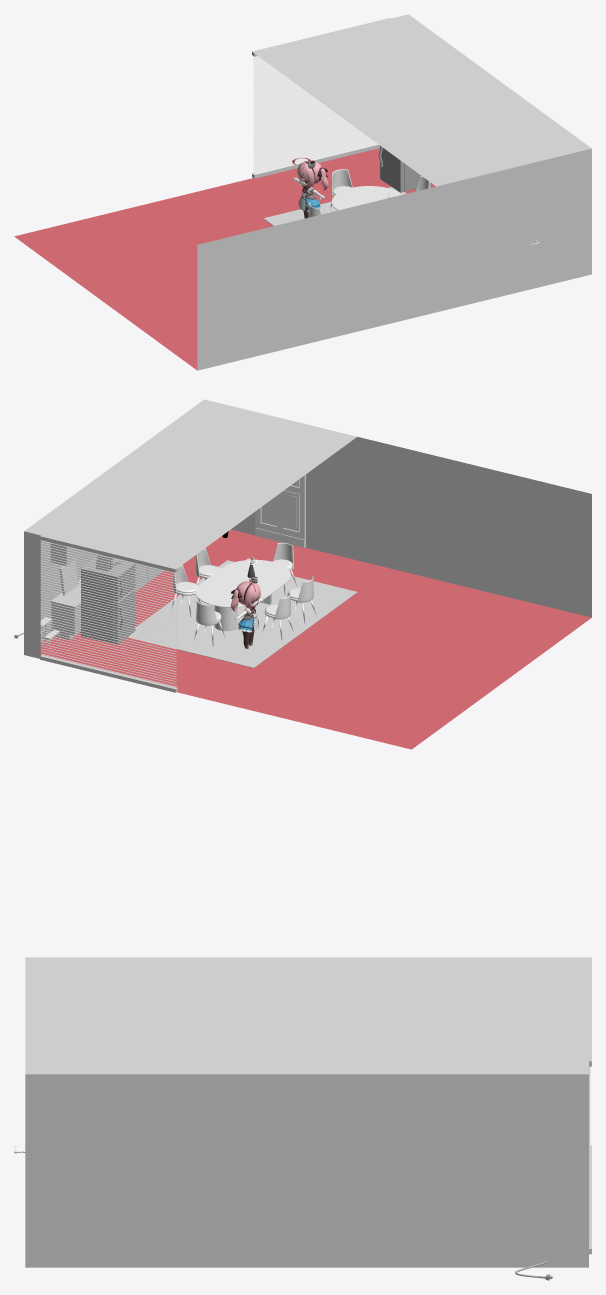
Rendered from fairy-room.glb.
3 views of the same model, one above another, from view 1: azimuth 30°, elevation 25°; view 2: azimuth 150°, elevation 25°; view 3: azimuth 270°, elevation 25° (orthographic). The views are drawn at different scales.
Parts seen in each view (by area): view 1: house, floor, window, table, polySurface4, seat, xjjhair, carpet, xjjbody; view 2: house, floor, window, carpet, seat, table, pCube19, doorHandle, cabinet, polySurface4, xjjbody, xjjhair (+2 smaller); view 3: house, window.
Boxes of the visible parts, left/top/right/bottom form: house: left=197, top=14, right=591, bottom=370; floor: left=14, top=148, right=435, bottom=370; window: left=252, top=18, right=390, bottom=178; table: left=331, top=186, right=401, bottom=210; polySurface4: left=380, top=146, right=403, bottom=192; seat: left=308, top=169, right=430, bottom=217; xjjhair: left=292, top=157, right=328, bottom=190; carpet: left=263, top=187, right=406, bottom=225; xjjbody: left=292, top=160, right=325, bottom=218; house: left=24, top=399, right=591, bottom=658; floor: left=40, top=529, right=591, bottom=749; window: left=40, top=535, right=177, bottom=692; carpet: left=128, top=560, right=357, bottom=667; seat: left=170, top=542, right=316, bottom=646; table: left=195, top=559, right=290, bottom=631; pCube19: left=81, top=555, right=130, bottom=643; doorHandle: left=255, top=474, right=305, bottom=547; cabinet: left=50, top=542, right=164, bottom=639; polySurface4: left=114, top=589, right=135, bottom=644; xjjbody: left=234, top=576, right=263, bottom=648; xjjhair: left=230, top=579, right=260, bottom=611; house: left=25, top=957, right=588, bottom=1267; window: left=589, top=957, right=591, bottom=1254.
Bounding box in the file's own units: 10.4 × 3.01 × 8.13.
Materials: 38 (4 with a texture image).
